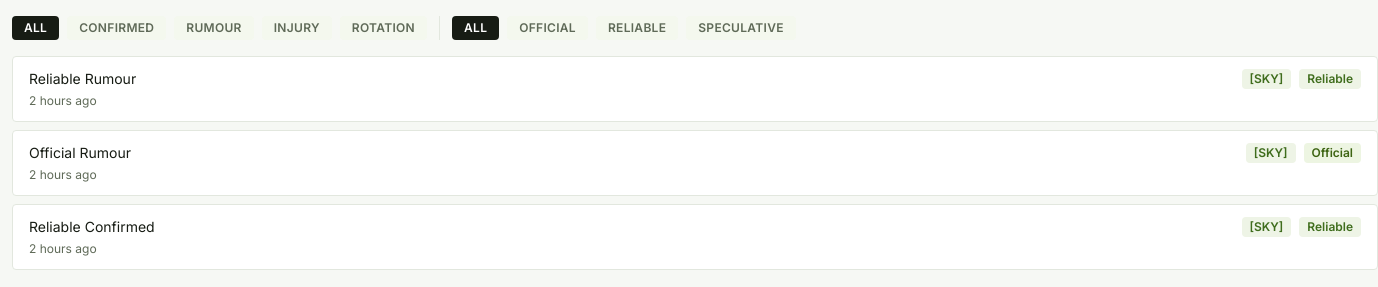
SummerWindowTab — Phase 131 SPEC-01/02/03 › Test 18 — classification AND tier filter both apply (AND logic)
The image size is (1378, 287).
Click the tab "Rumour" at x=214, y=28, box [174,16,254,40]
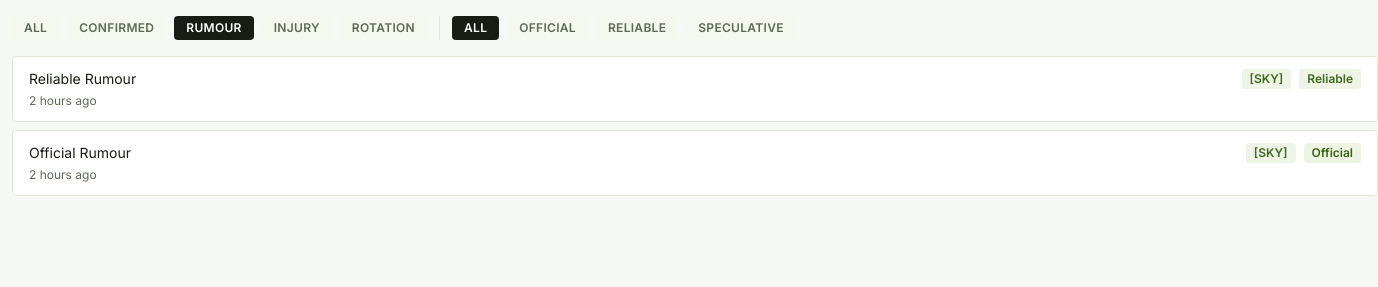
Click the tab "Reliable" at x=637, y=28, box [596,16,678,40]
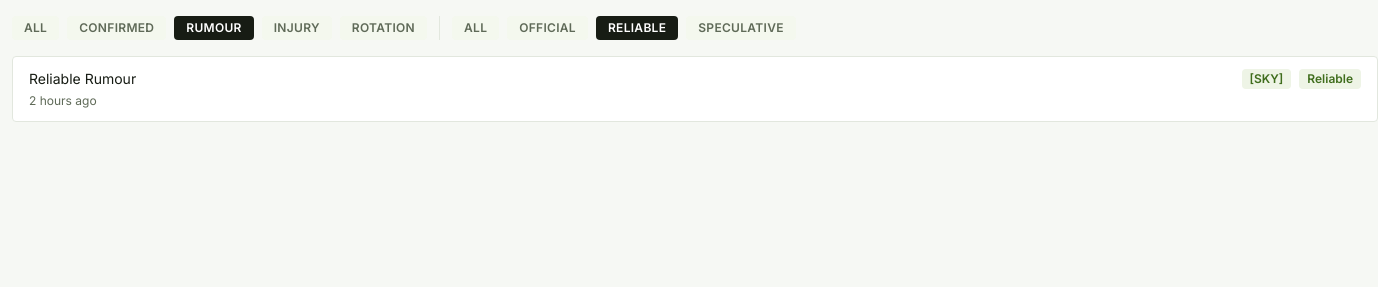
Check: the link "Reliable Rumour" is shown, box [29,70,136,87]
Check: the link "Official Rumour" is gone
